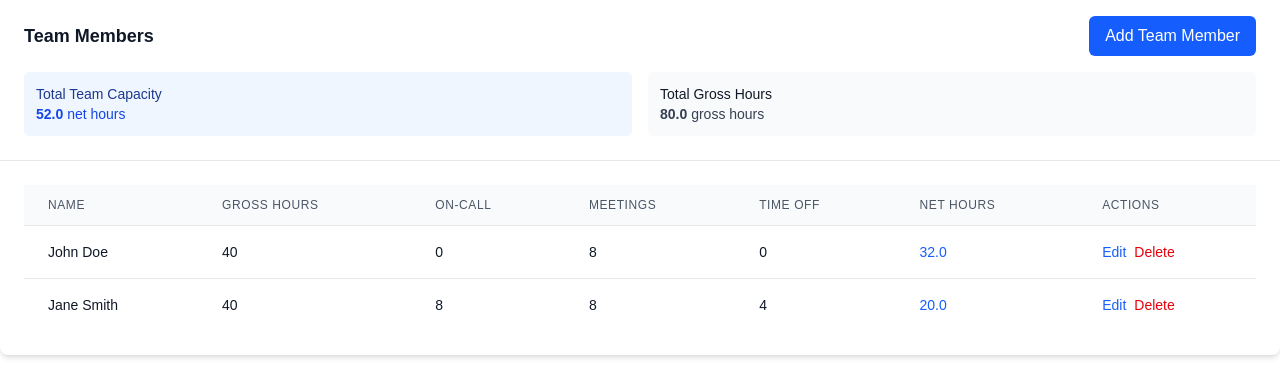
TeamMemberList › should show delete confirmation when delete button is clicked
Click the button "Delete" in the row of "John Doe" at (1155, 252), box [1134,242,1175,262]
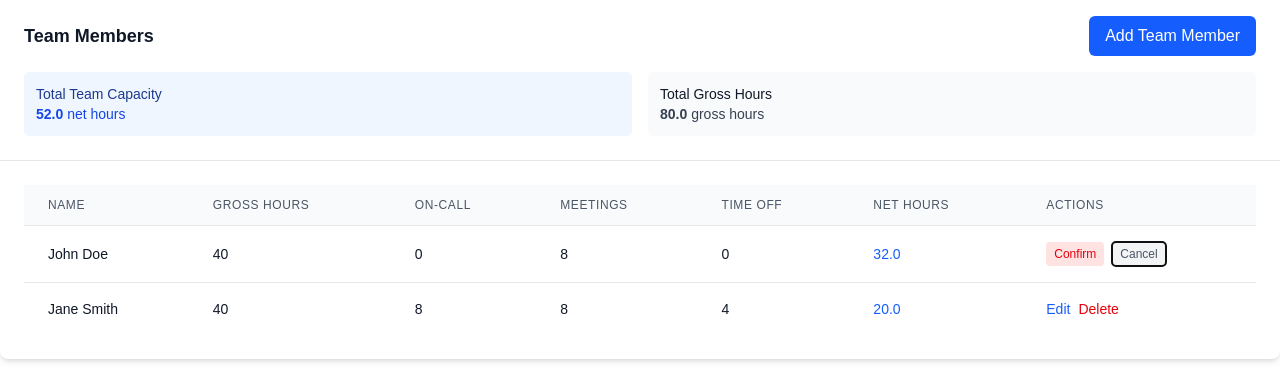
Result: the button "Confirm" is shown at [1046,242,1104,266]
Result: the button "Cancel" is shown at [1112,242,1166,266]
